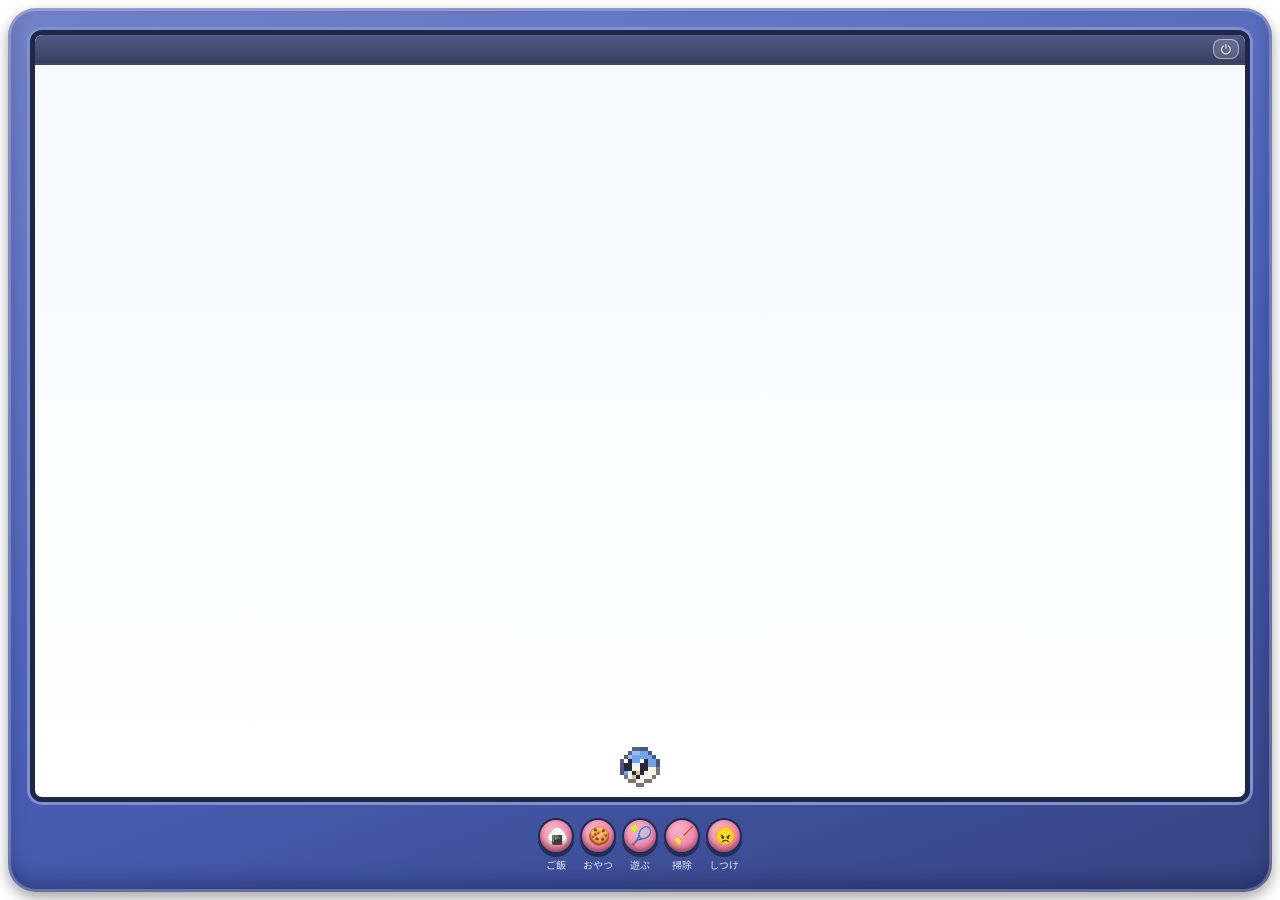
Test case: App › clears a previous error after a successful action
This screenshot has width=1280, height=900.
Click the button named "ご飯" at (556, 836), box [538,818,574,854]
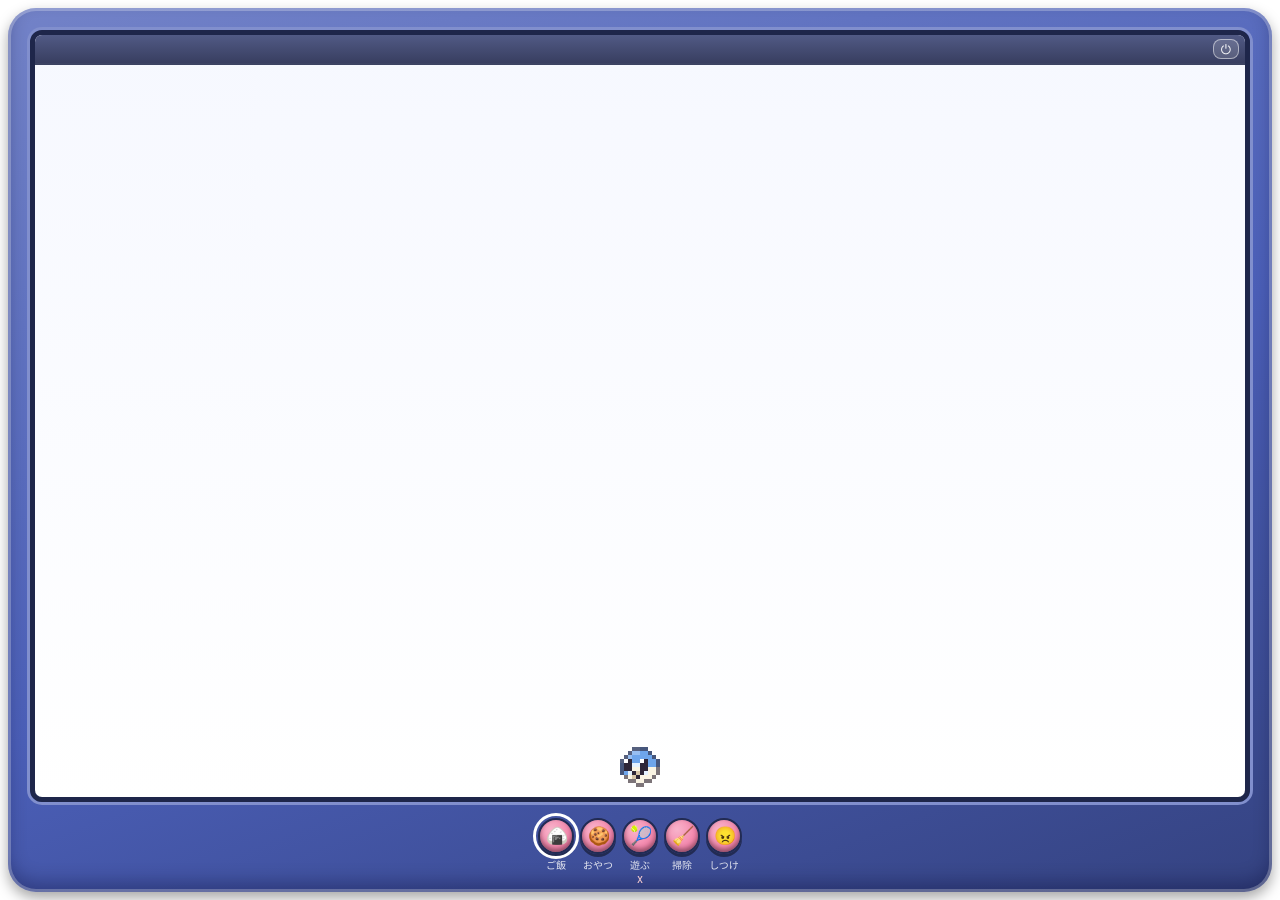
Expected: the message "x" is shown, [637,872,643,886]
Click the button named "ご飯" at (556, 836), box [538,818,574,854]
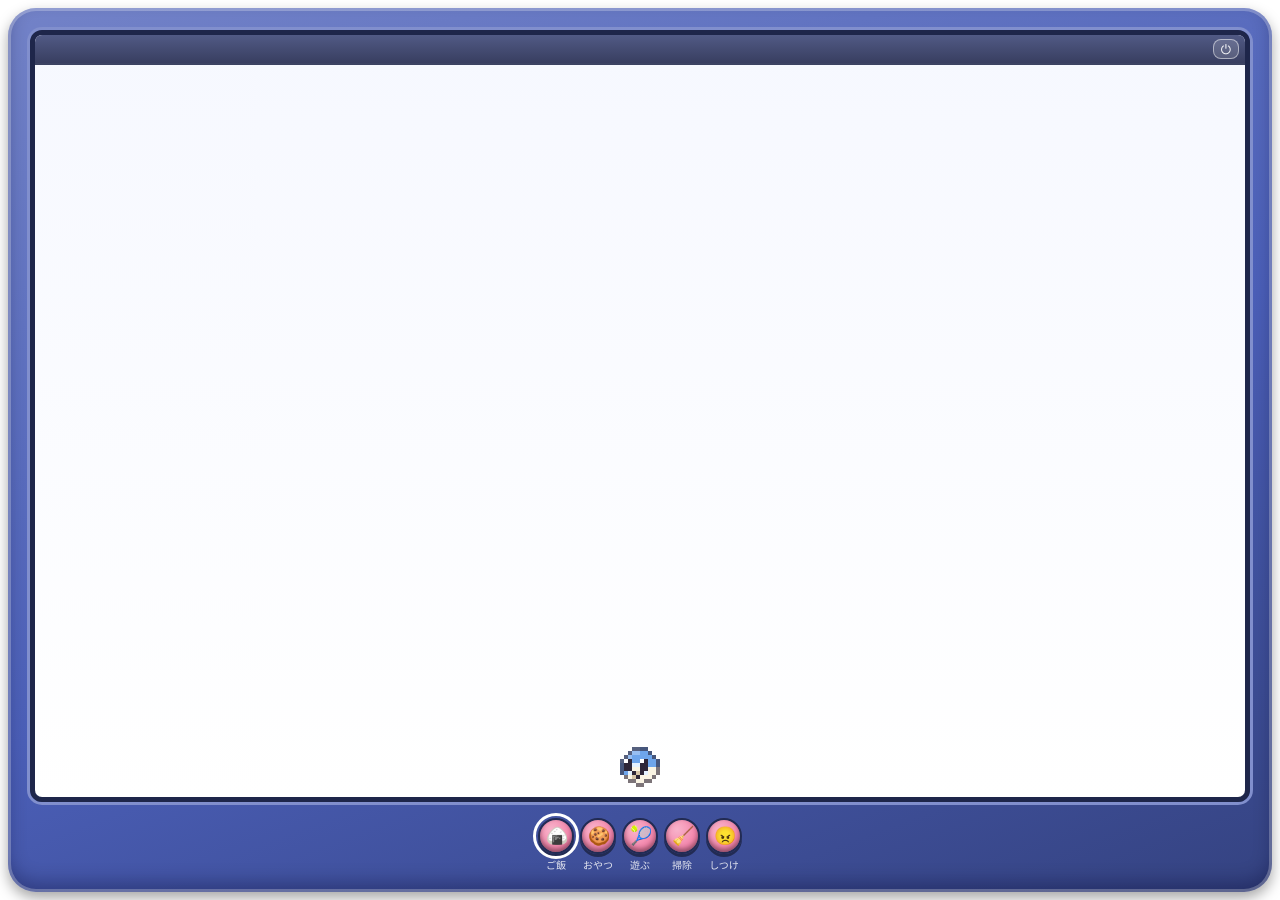
Expected: the message "x" is gone
